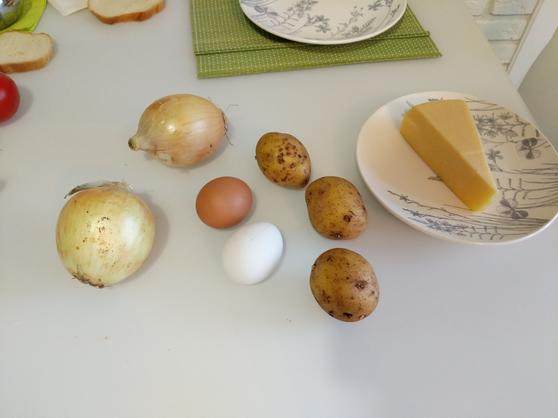cheese: (397, 98, 497, 216)
egg: (225, 218, 286, 287), (193, 172, 256, 230)
onion: (54, 183, 163, 290), (130, 93, 230, 166)
potato: (310, 250, 382, 325), (304, 175, 370, 241), (254, 129, 314, 190)
white_bread: (1, 30, 57, 70), (91, 1, 179, 26)
